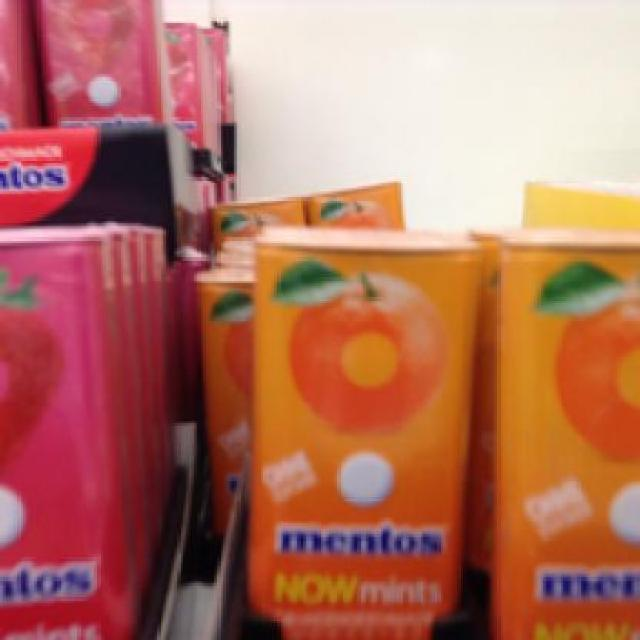Candy: (245, 222, 478, 638), (488, 228, 634, 638), (37, 0, 163, 126)
